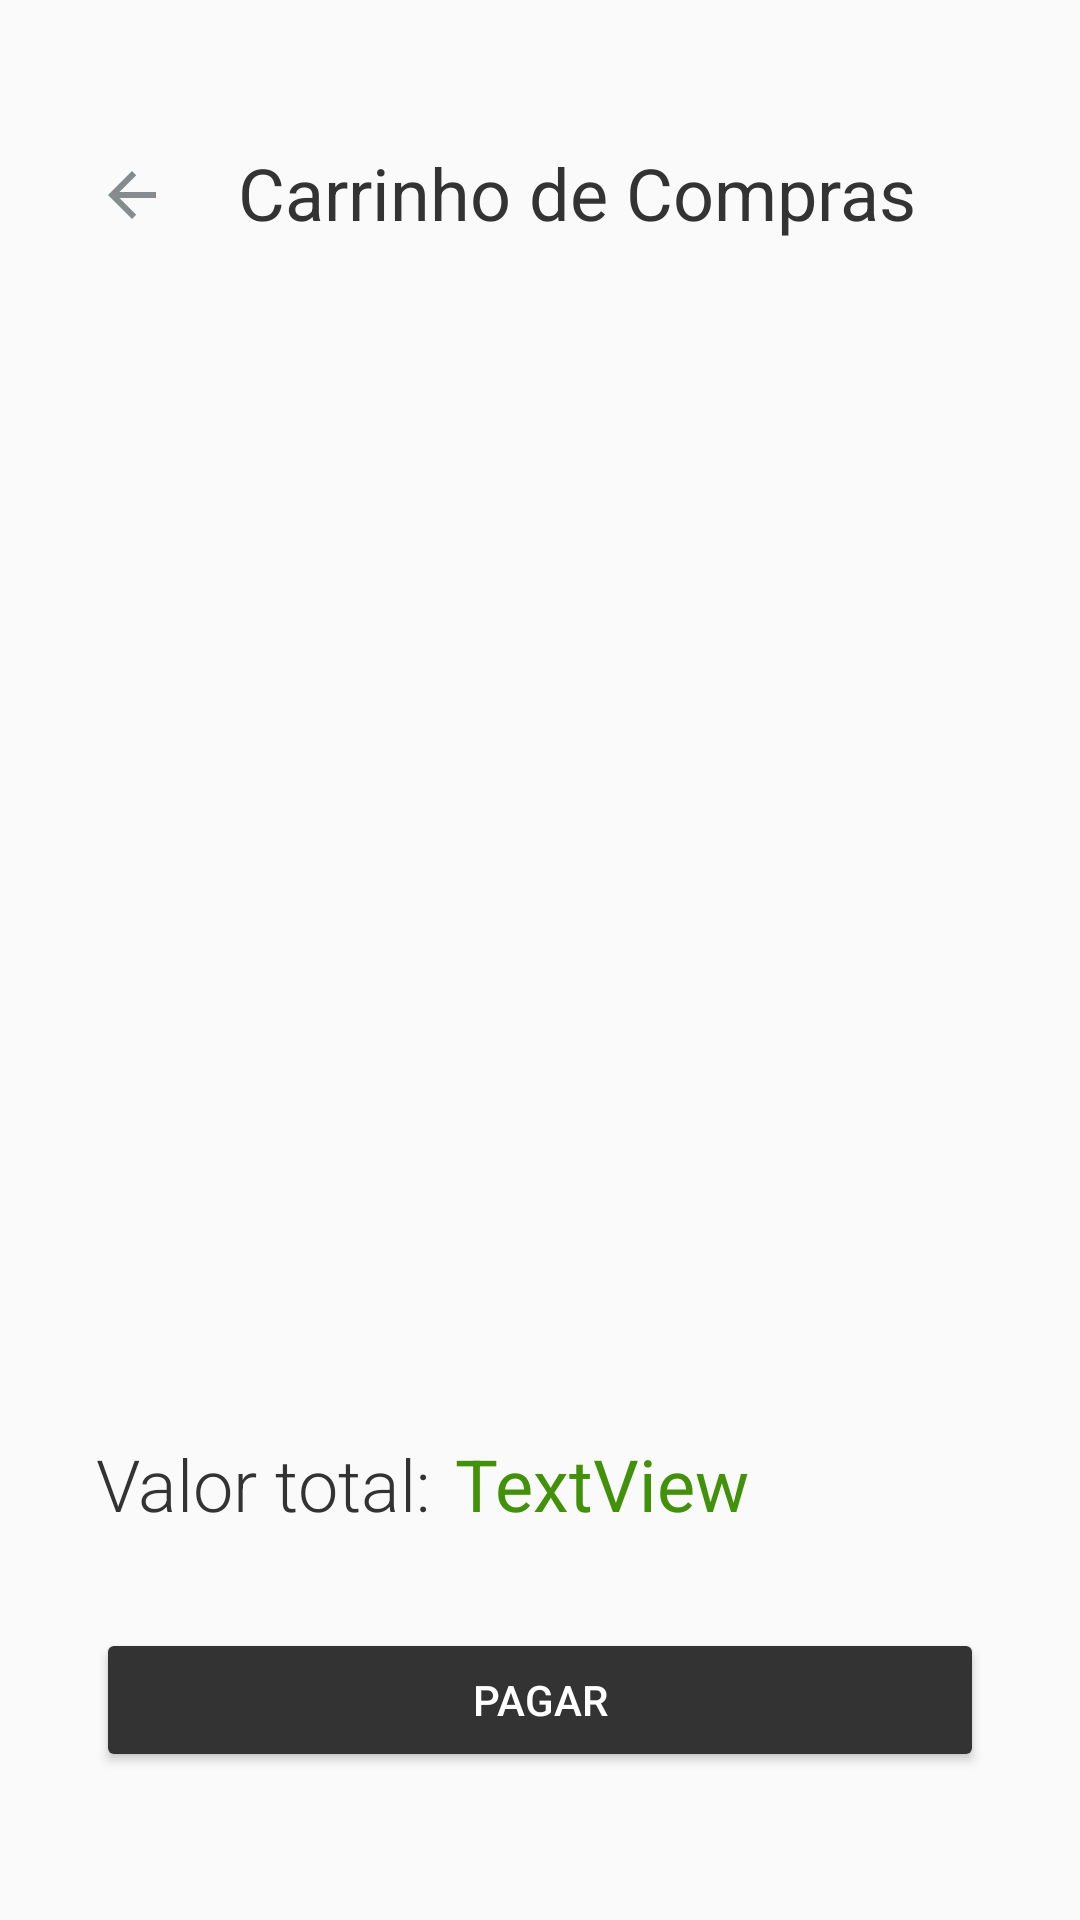

Icons on this 1080×1920 Android screen, each with its box as (x1, y1, x2, y2):
arrow back: (108, 171, 156, 219)
